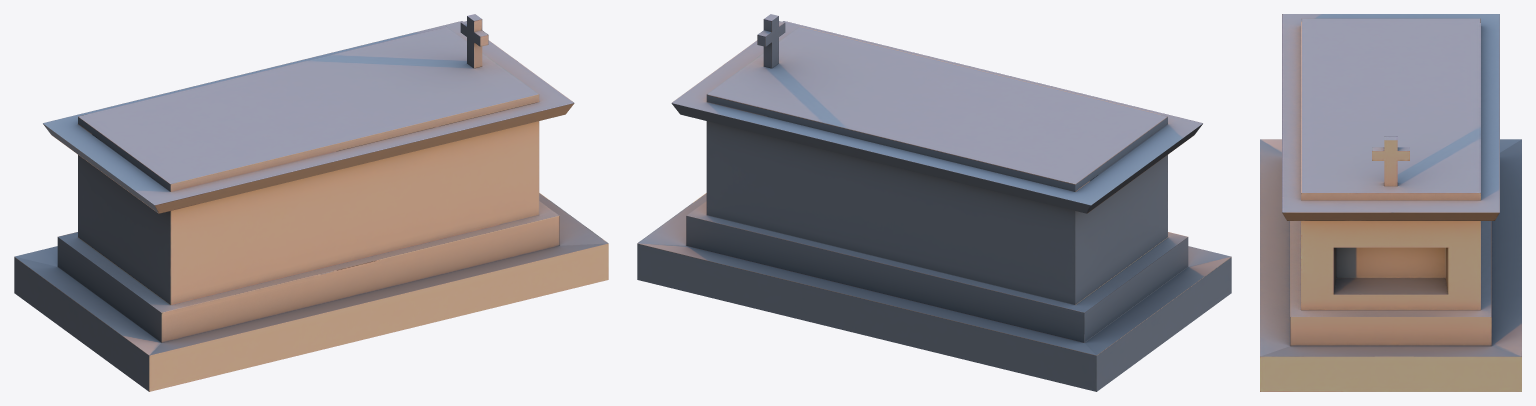
The picture shows the model from 3 angles, left to right: view 1: azimuth 30°, elevation 25°; view 2: azimuth 150°, elevation 25°; view 3: azimuth 270°, elevation 25°; orthographic projection. The views are drawn at different scales.
Parts seen in each view (by area): view 1: Tombe5 high; view 2: Tombe5 high; view 3: Tombe5 high.
Part boxes in pixels (x1,y1,x2,y2): Tombe5 high: (14, 14, 608, 391); Tombe5 high: (637, 14, 1231, 391); Tombe5 high: (1260, 14, 1521, 391).
Size of the model in its own units: 2.22 by 1.06 by 1.13.
Materials: 1 (1 with a texture image).
